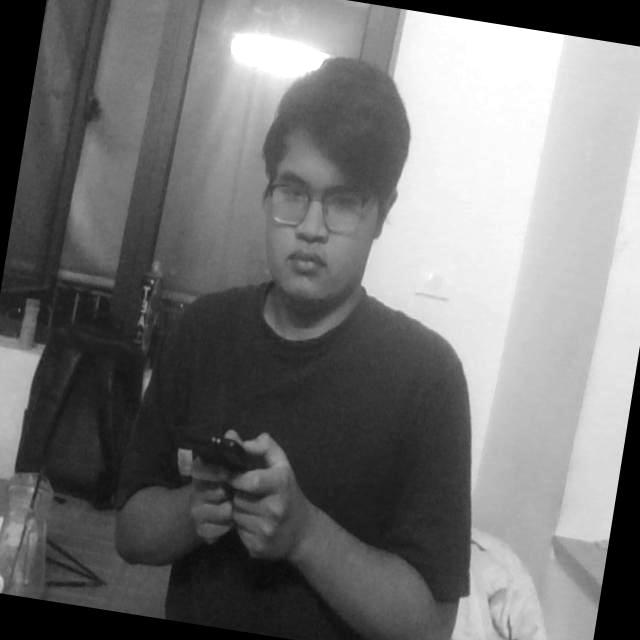phone: (182, 426, 278, 502)
